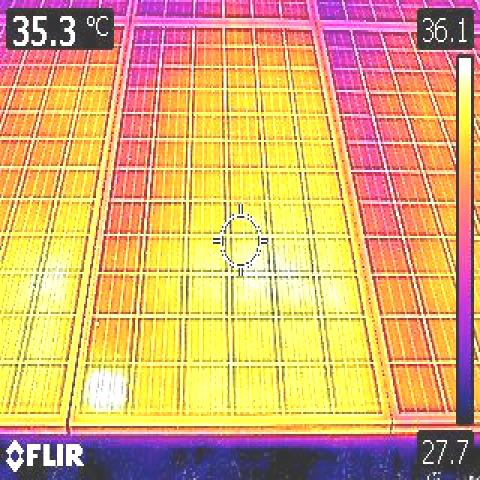fault: (260, 245, 313, 316), (87, 362, 130, 414)
